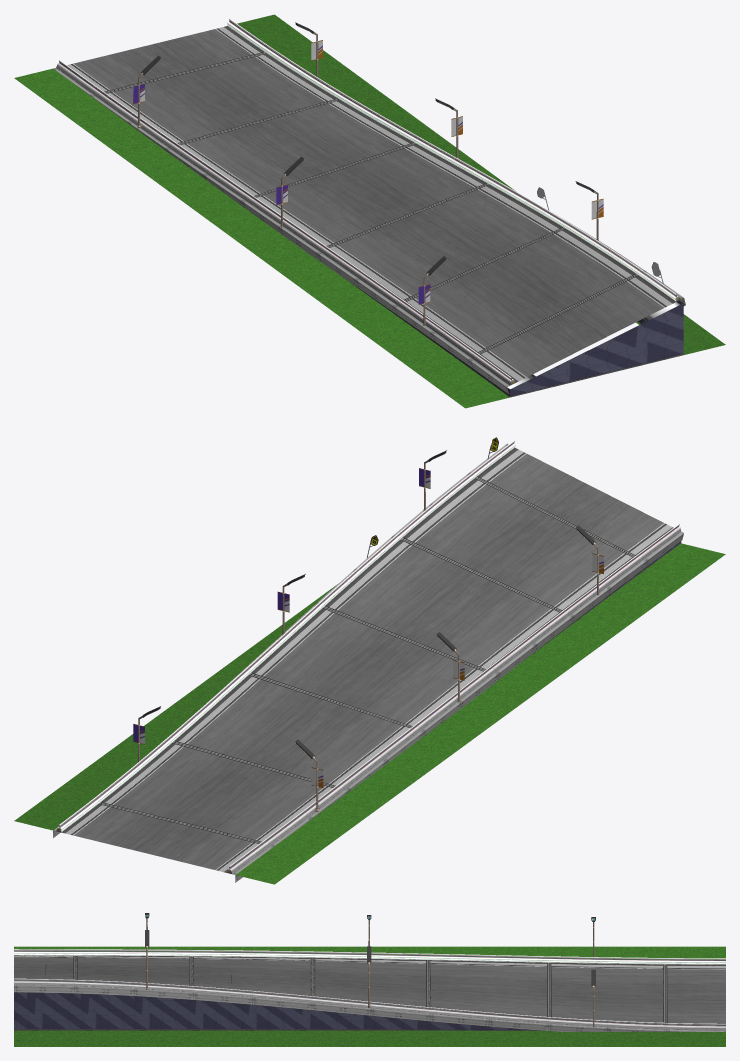
File: T11 - Ground.fbx
The picture shows the model from 3 angles, top to bottom: view 1: azimuth 30°, elevation 25°; view 2: azimuth 150°, elevation 25°; view 3: azimuth 270°, elevation 25°; orthographic projection. The views are drawn at different scales.
Parts seen in each view (by area): view 1: straight_road, standard_ground_grass, barrier_elevated9, standard_foundation1, standard_bridge12, banking_middle_lines; view 2: straight_road, standard_ground_grass, barrier_elevated9, standard_bridge12, banking_middle_lines; view 3: straight_road, standard_ground_grass, standard_foundation1, barrier_elevated9, standard_bridge12, banking_middle_lines.
Boxes of the visible parts, x1,y1,x2,y2 form: straight_road: (67, 26, 675, 382); standard_ground_grass: (14, 14, 725, 408); barrier_elevated9: (56, 18, 680, 385); standard_foundation1: (346, 279, 683, 397); standard_bridge12: (53, 68, 685, 394); banking_middle_lines: (112, 55, 625, 349); straight_road: (61, 448, 673, 872); standard_ground_grass: (14, 543, 725, 884); barrier_elevated9: (56, 440, 681, 874); standard_bridge12: (53, 443, 683, 882); banking_middle_lines: (111, 482, 625, 841); straight_road: (14, 955, 725, 1025); standard_ground_grass: (14, 946, 725, 1046); standard_foundation1: (14, 992, 543, 1030); barrier_elevated9: (14, 949, 725, 1030); standard_bridge12: (14, 985, 725, 1031); banking_middle_lines: (73, 958, 667, 1022).
Bounding box in the file's own units: 6400 × 2927 × 19200.
